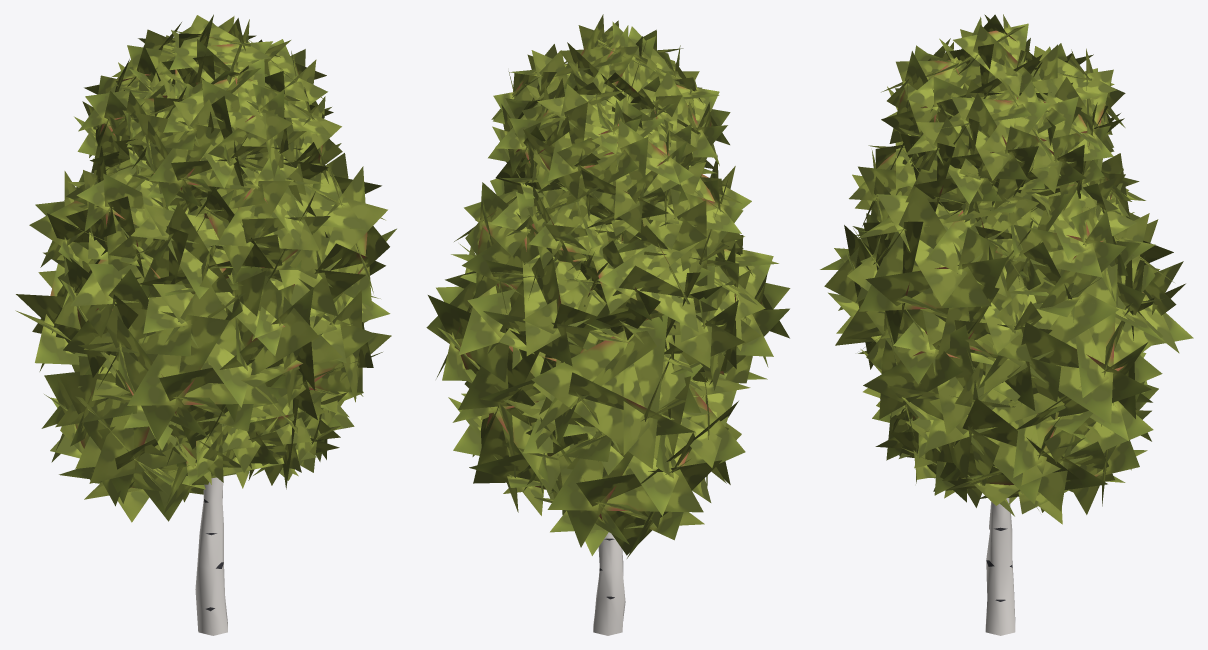
File: Birch_Tree_1.glb
3 views of the same model, side by side, from view 1: azimuth 30°, elevation 25°; view 2: azimuth 150°, elevation 25°; view 3: azimuth 270°, elevation 25° (orthographic).
Parts seen in each view (by area): view 1: Birch_Tree_1; view 2: Birch_Tree_1; view 3: Birch_Tree_1.
Boxes of the visible parts, x1,y1,x2,y2 form: Birch_Tree_1: (15,14,396,635); Birch_Tree_1: (426,14,790,635); Birch_Tree_1: (820,14,1193,635).
Size of the model in its own units: 4.75 by 9.52 by 5.27.
Materials: 2 (2 with a texture image).
